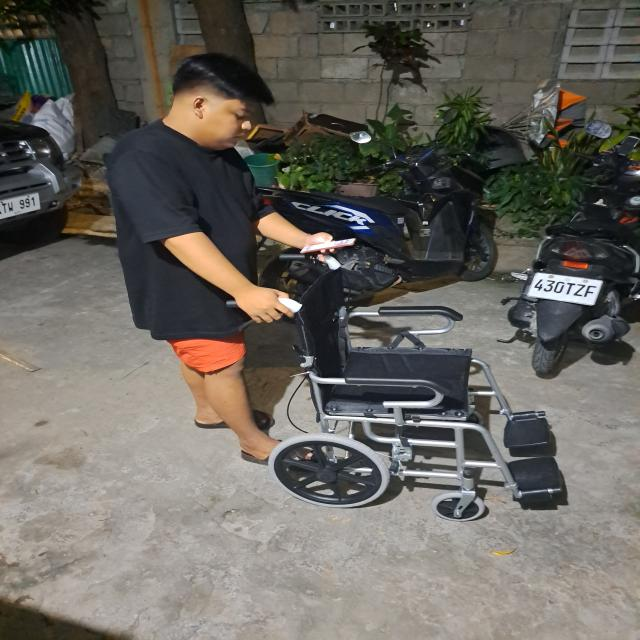wheelchairs: (252, 254, 570, 542)
